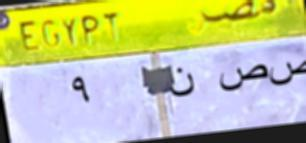9: (64, 73, 95, 109)
noon: (163, 61, 200, 100)
saad: (217, 60, 268, 97), (268, 56, 306, 87)
